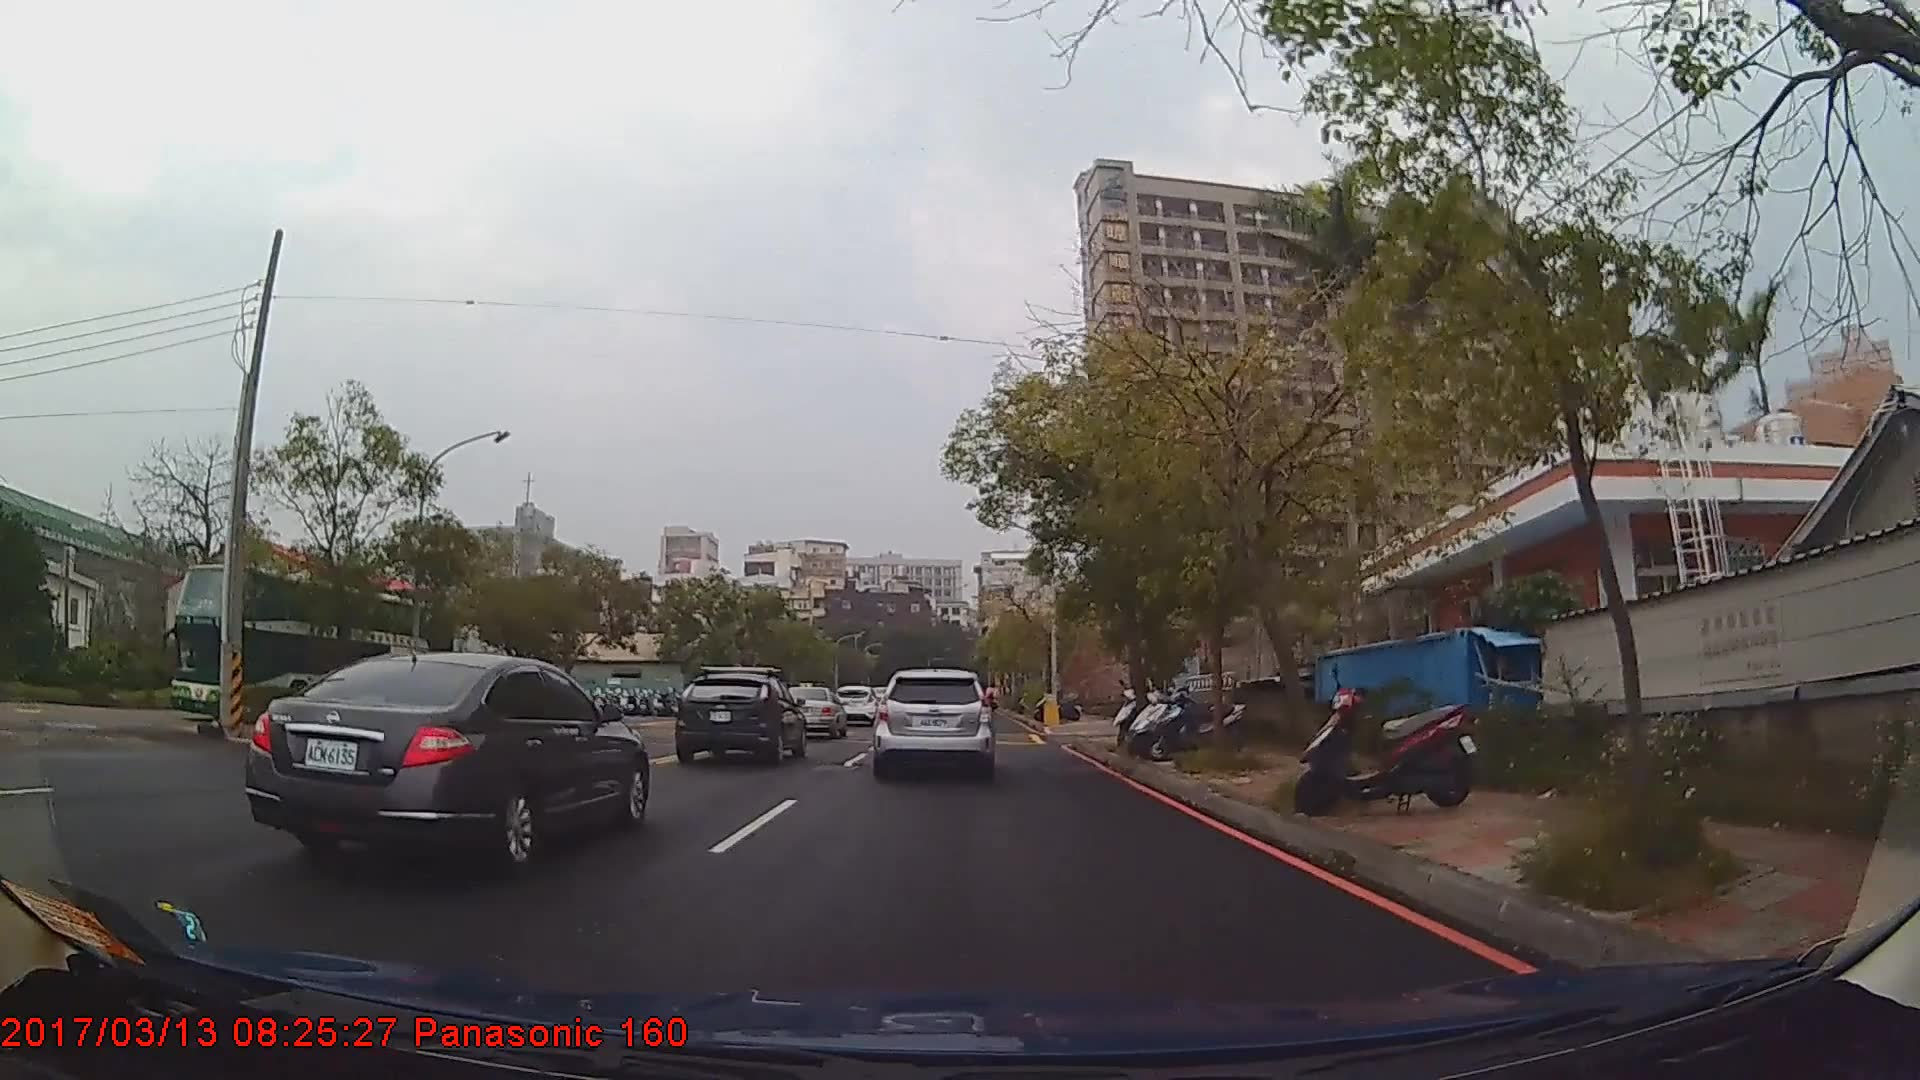vehicle: (243, 647, 653, 872), (171, 560, 430, 733), (673, 670, 807, 769), (876, 666, 993, 778), (781, 683, 847, 740), (833, 683, 880, 727)
